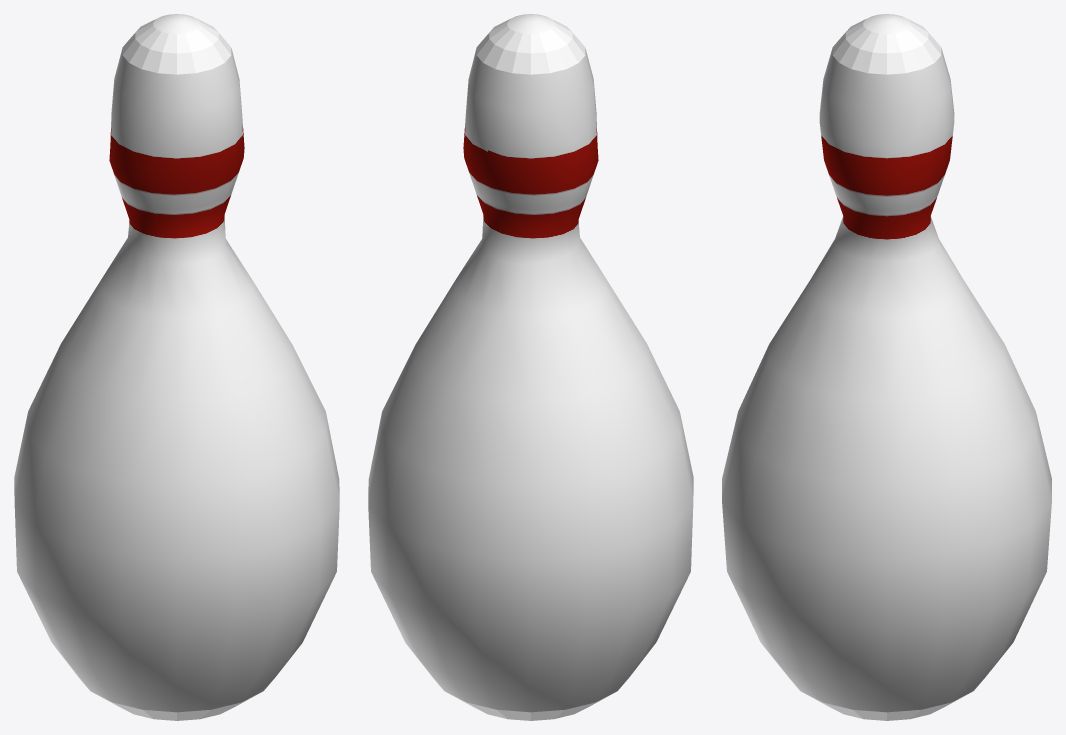
Rendered from BowlingPinPlush.fbx.
3 views of the same model, side by side, from view 1: azimuth 30°, elevation 25°; view 2: azimuth 150°, elevation 25°; view 3: azimuth 270°, elevation 25° (orthographic).
Parts seen in each view (by area): view 1: Boling pin Plush; view 2: Boling pin Plush; view 3: Boling pin Plush.
Boxes of the visible parts, <box> form: Boling pin Plush: <box>14,14,339,720</box>; Boling pin Plush: <box>368,14,693,720</box>; Boling pin Plush: <box>722,14,1051,720</box>.
Size of the model in its own units: 18.69 by 42.3 by 18.76.
